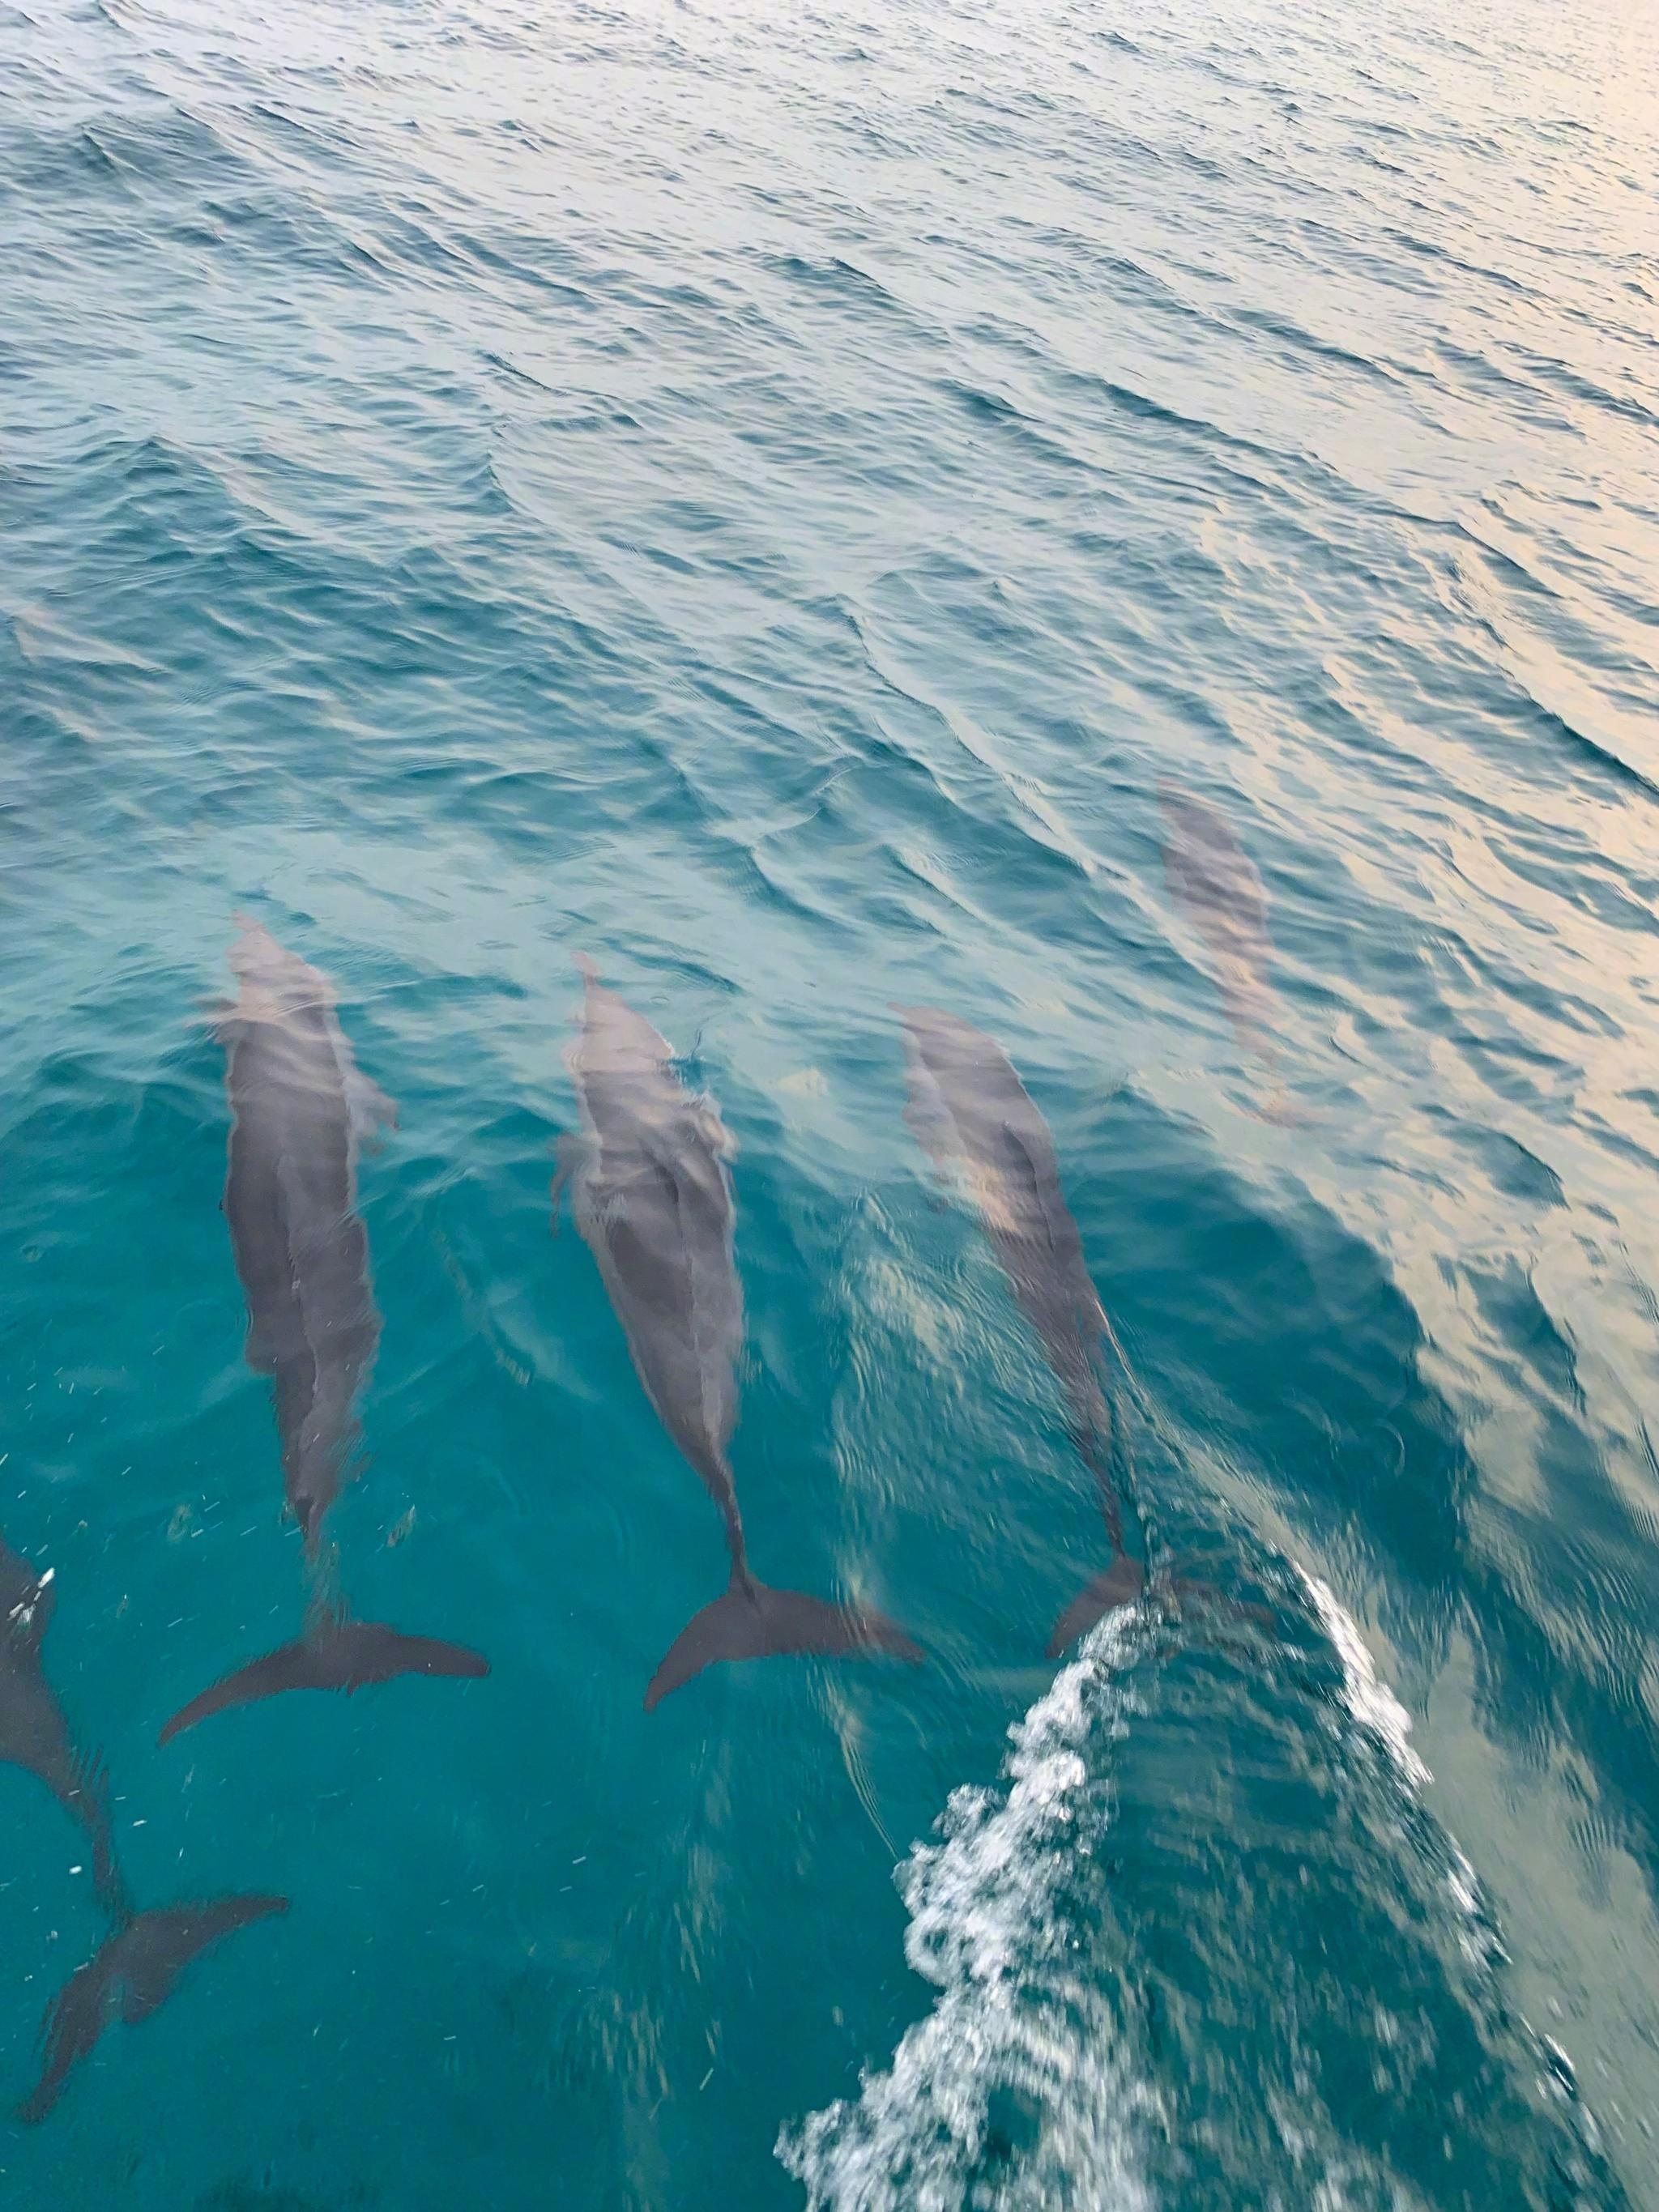fish: (547, 904, 960, 1728), (160, 914, 474, 1750), (894, 1008, 1260, 1656)
